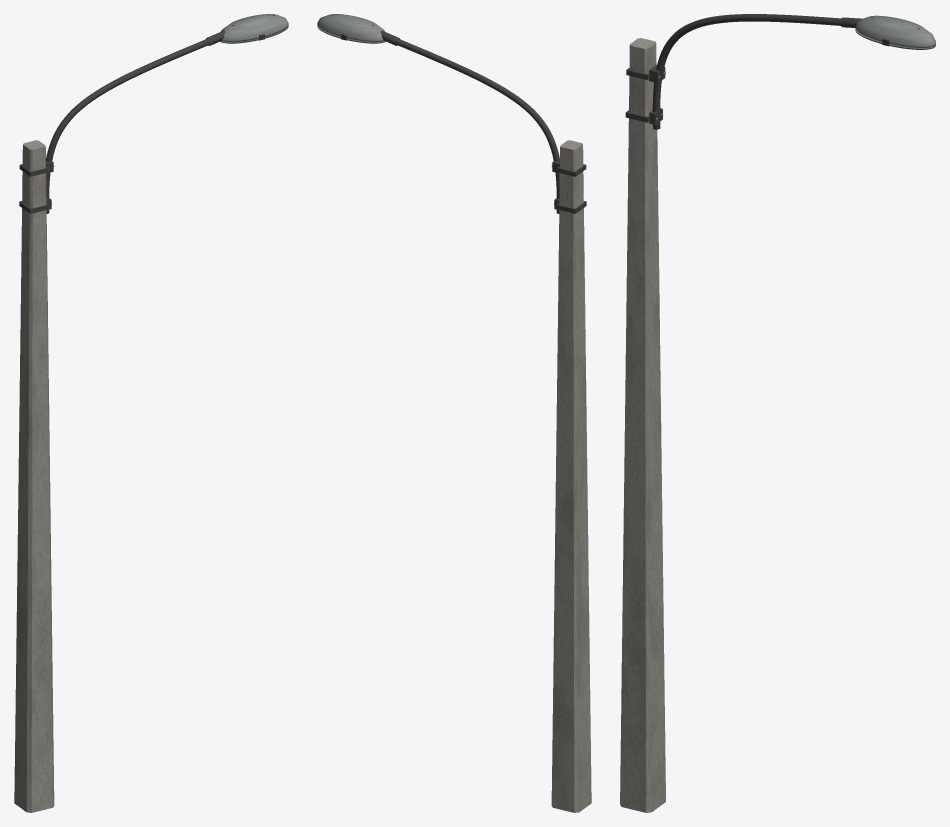
File: hzb_lamp.fbx
3 renders of one model, left to right at view 1: azimuth 30°, elevation 25°; view 2: azimuth 150°, elevation 25°; view 3: azimuth 330°, elevation 25°, orthographic. The views are drawn at different scales.
Visible parts, largest first — view 1: Single_lamp_concrete_pole; view 2: Single_lamp_concrete_pole; view 3: Single_lamp_concrete_pole.
Part boxes in pixels (x1=…): Single_lamp_concrete_pole: x1=14, y1=14, x2=288, y2=812; Single_lamp_concrete_pole: x1=317, y1=14, x2=591, y2=812; Single_lamp_concrete_pole: x1=620, y1=14, x2=935, y2=812.
Size of the model in its own units: 357 by 935 by 40.4.
